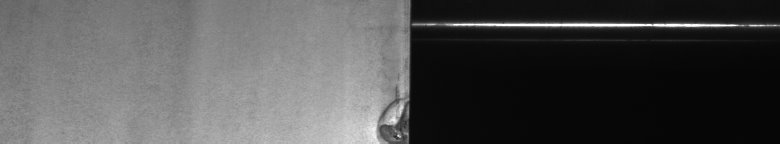hb: (364, 21, 396, 136)
